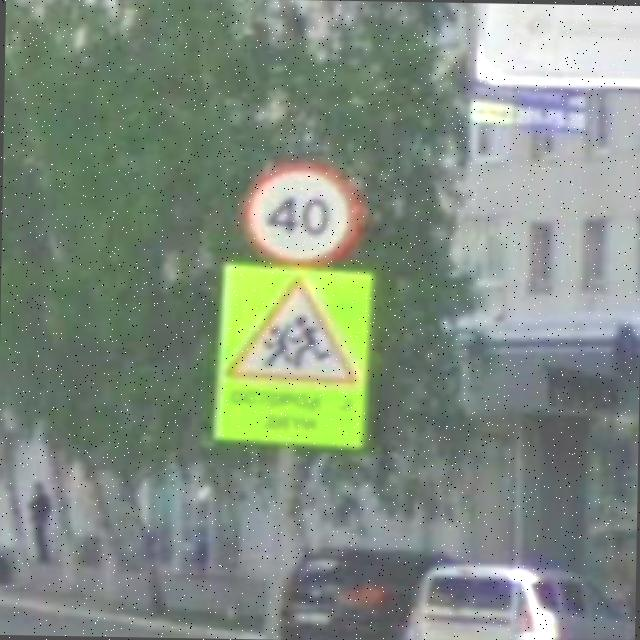Dzieci: (226, 275, 361, 389)
Ograniczenie predkosci do 40: (239, 160, 363, 265)
